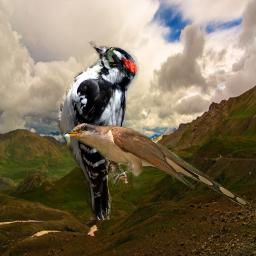Cuckoo: (59, 122, 251, 207), (106, 47, 131, 79)
Woodpecker: (56, 41, 140, 220)
